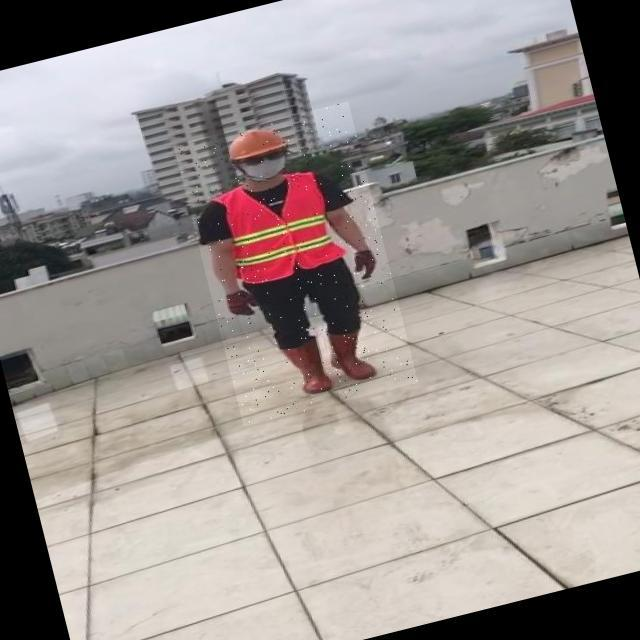Gloves: (224, 285, 262, 322), (353, 247, 380, 282)
Helmet: (221, 122, 288, 164)
Human: (173, 101, 418, 426)
Safety Boot: (279, 337, 333, 400), (321, 323, 373, 386)
Safety Vest: (214, 166, 344, 287)
